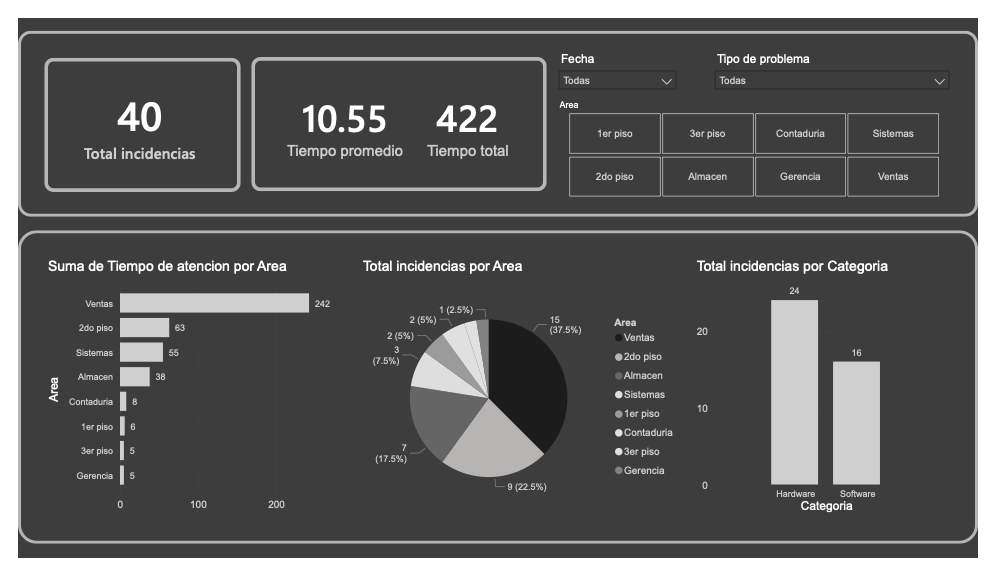

This screenshot's page, from the dashboard's own definition file:
{"tool":"powerbi","page":{"name":"Resumen","canvas":[1280,720],"ordinal":0},"visuals":[{"type":"shape","box":[310.7,52,394.7,178.7],"z":0},{"type":"shape","box":[0,17.4,1280.3,247.7],"z":1000},{"type":"shape","box":[34.7,53.2,262.8,178.3],"z":2000},{"type":"cardVisual","fields":{"Data":["td_incidencias.Total incidencias"]},"box":[54.7,64,213.3,153.3],"z":3000},{"type":"cardVisual","title":"Min","fields":{"Data":["td_incidencias.Tiempo promedio"]},"box":[325.3,68,220,149.3],"z":4000},{"type":"cardVisual","fields":{"Data":["td_incidencias.Tiempo total"]},"box":[514.7,72,168,140],"z":5000},{"type":"shape","box":[0,282.7,1280,418.7],"z":6000},{"type":"clusteredBarChart","fields":{"Category":["td_incidencias.AREA"],"Y":["Sum(td_incidencias.Tiempo de atencion)"]},"box":[34.7,320,401.3,344],"z":7000},{"type":"pieChart","fields":{"Category":["td_incidencias.Area"],"Y":["td_incidencias.Total incidencias"]},"box":[454.7,320,433.3,353.3],"z":8000},{"type":"clusteredColumnChart","fields":{"Category":["td_incidencias.CATEGORIA"],"Y":["td_incidencias.Total incidencias"]},"box":[900,320,332,344],"z":9000},{"type":"slicer","fields":{"Values":["td_incidencias.FECHA"]},"box":[710.7,40,177.3,64],"z":10000},{"type":"slicer","fields":{"Values":["td_incidencias.Area"]},"box":[709.3,104,542.7,141.3],"z":11000},{"type":"slicer","fields":{"Values":["td_incidencias.Tipo de problema"]},"box":[918.7,40,333.3,76],"z":12000}]}

Visuals, with their boxes in screenshot pixels (x1, y1, x2, y2), scaled from the page's 1280x720 canvas onto the 996x576 screenshot:
shape: [x1=242, y1=42, x2=549, y2=185]
shape: [x1=0, y1=14, x2=995, y2=212]
shape: [x1=27, y1=43, x2=231, y2=185]
cardVisual - td_incidencias.Total incidencias: [x1=43, y1=51, x2=209, y2=174]
"Min" cardVisual: [x1=253, y1=54, x2=424, y2=174]
cardVisual - td_incidencias.Tiempo total: [x1=401, y1=58, x2=531, y2=170]
shape: [x1=0, y1=226, x2=995, y2=561]
clusteredBarChart - td_incidencias.AREA x Sum(td_incidencias.Tiempo de atencion): [x1=27, y1=256, x2=339, y2=531]
pieChart - td_incidencias.Area x td_incidencias.Total incidencias: [x1=354, y1=256, x2=691, y2=539]
clusteredColumnChart - td_incidencias.CATEGORIA x td_incidencias.Total incidencias: [x1=700, y1=256, x2=959, y2=531]
slicer - td_incidencias.FECHA: [x1=553, y1=32, x2=691, y2=83]
slicer - td_incidencias.Area: [x1=552, y1=83, x2=974, y2=196]
slicer - td_incidencias.Tipo de problema: [x1=715, y1=32, x2=974, y2=93]
